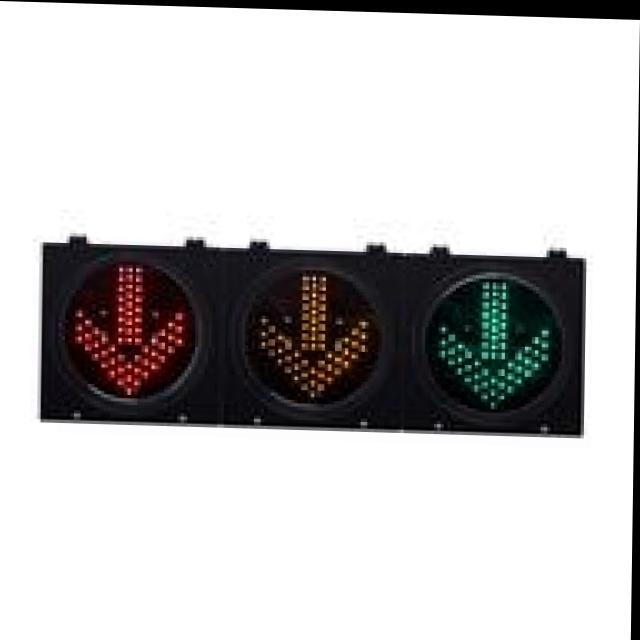green_light: (420, 224, 576, 496)
red_light: (237, 199, 408, 454), (21, 233, 230, 439)
